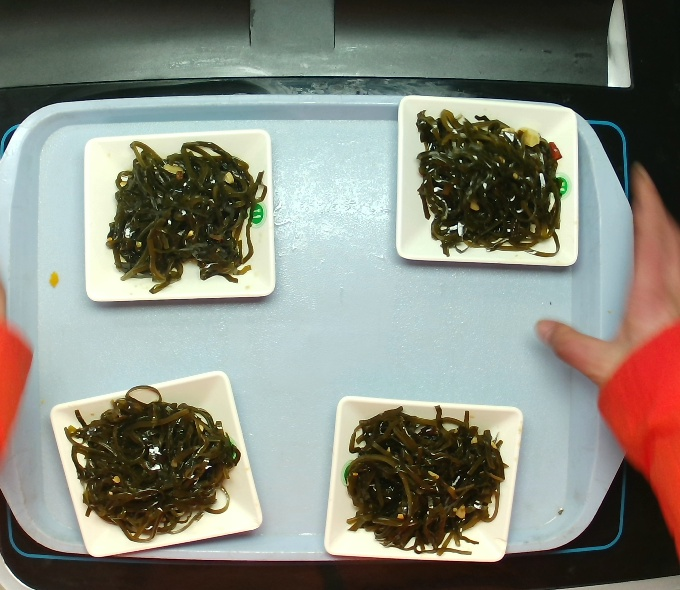wcq-LiangBanHaiDai: (398, 100, 580, 257), (336, 397, 513, 557), (63, 382, 241, 538), (106, 143, 264, 287)
